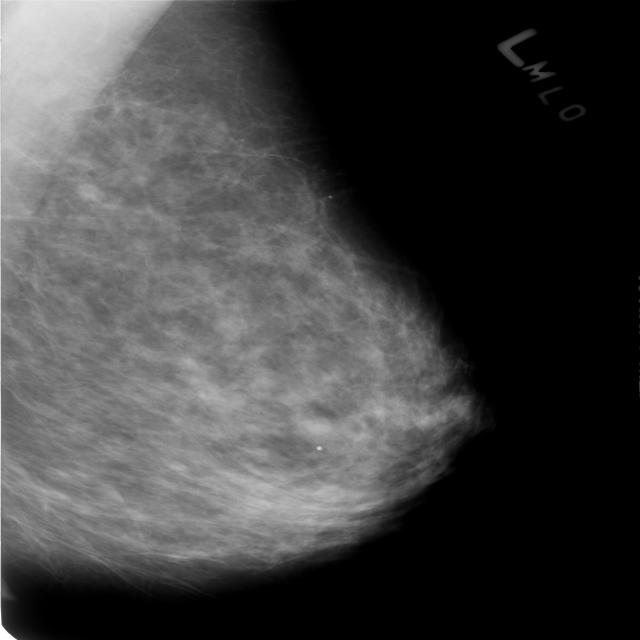normal: (0, 0, 467, 600)
